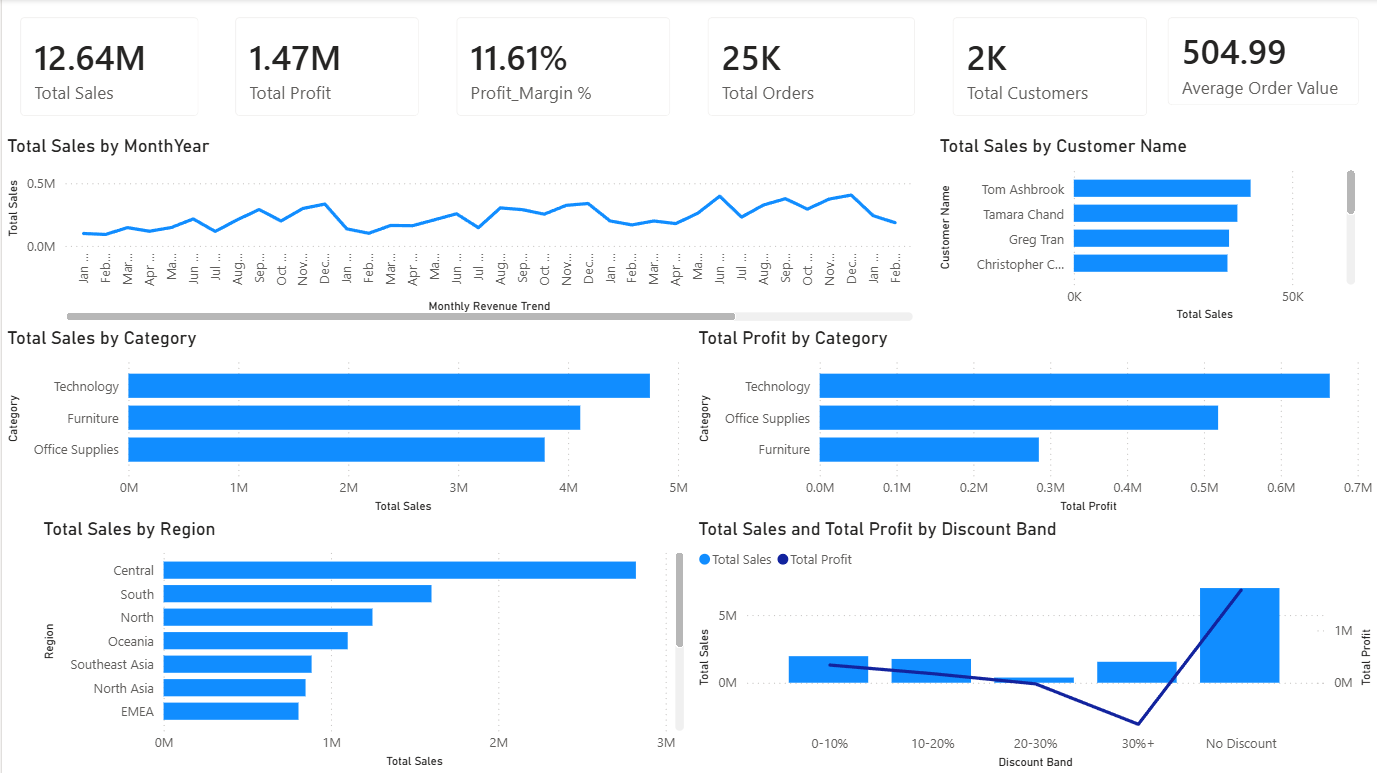

The page's visual inventory and layout, read from the dashboard file:
{"tool":"powerbi","page":{"name":"Page 1","canvas":[1280,720],"ordinal":0},"visuals":[{"type":"cardVisual","fields":{"Data":["Global_Superstore_Cleaned.Total Sales"]},"box":[0,0,200,126.7],"z":0},{"type":"cardVisual","fields":{"Data":["Global_Superstore_Cleaned.Total Profit"]},"box":[200,0,205.8,126.7],"z":1000},{"type":"cardVisual","fields":{"Data":["Global_Superstore_Cleaned.Profit_Margin %"]},"box":[405.8,0,233.7,126.7],"z":2000},{"type":"cardVisual","fields":{"Data":["Global_Superstore_Cleaned.Total Orders"]},"box":[639.5,0,227.9,126.7],"z":3000},{"type":"cardVisual","fields":{"Data":["Global_Superstore_Cleaned.Total Customers"]},"box":[867.4,0,215.1,126.7],"z":4000},{"type":"cardVisual","fields":{"Data":["Global_Superstore_Cleaned.Average Order Value"]},"box":[1067.4,0,212.8,116.3],"z":5000},{"type":"lineChart","fields":{"Y":["Global_Superstore_Cleaned.Total Sales"],"Category":["Global_Superstore_Cleaned.MonthYear"]},"box":[0,126.7,852.3,177.9],"z":6000},{"type":"clusteredBarChart","fields":{"Category":["Global_Superstore_Cleaned.Category"],"Y":["Global_Superstore_Cleaned.Total Sales"]},"box":[0,304.7,643,177.9],"z":7000},{"type":"clusteredBarChart","fields":{"Category":["Global_Superstore_Cleaned.Category"],"Y":["Global_Superstore_Cleaned.Total Profit"]},"box":[643,304.7,637.2,177.9],"z":8000},{"type":"clusteredBarChart","fields":{"Category":["Global_Superstore_Cleaned.Region"],"Y":["Global_Superstore_Cleaned.Total Sales"]},"box":[33.7,482.6,605.8,237.2],"z":9000},{"type":"lineClusteredColumnComboChart","fields":{"Category":["Global_Superstore_Cleaned.Discount Band"],"Y":["Global_Superstore_Cleaned.Total Sales"],"Y2":["Global_Superstore_Cleaned.Total Profit"]},"box":[643,482.6,637.2,238.4],"z":10000},{"type":"clusteredBarChart","fields":{"Category":["Global_Superstore_Cleaned.Customer Name"],"Y":["Global_Superstore_Cleaned.Total Sales"]},"box":[867.4,126.7,396.5,177.9],"z":11000}]}

Visuals, with their boxes in screenshot pixels (x1, y1, x2, y2), scaled from the page's 1280x720 canvas onto the 1377x773 screenshot:
cardVisual - Global_Superstore_Cleaned.Total Sales: bbox=(0, 0, 215, 136)
cardVisual - Global_Superstore_Cleaned.Total Profit: bbox=(215, 0, 437, 136)
cardVisual - Global_Superstore_Cleaned.Profit_Margin %: bbox=(437, 0, 688, 136)
cardVisual - Global_Superstore_Cleaned.Total Orders: bbox=(688, 0, 933, 136)
cardVisual - Global_Superstore_Cleaned.Total Customers: bbox=(933, 0, 1165, 136)
cardVisual - Global_Superstore_Cleaned.Average Order Value: bbox=(1148, 0, 1376, 125)
lineChart - Global_Superstore_Cleaned.Total Sales x Global_Superstore_Cleaned.MonthYear: bbox=(0, 136, 917, 327)
clusteredBarChart - Global_Superstore_Cleaned.Category x Global_Superstore_Cleaned.Total Sales: bbox=(0, 327, 692, 518)
clusteredBarChart - Global_Superstore_Cleaned.Category x Global_Superstore_Cleaned.Total Profit: bbox=(692, 327, 1376, 518)
clusteredBarChart - Global_Superstore_Cleaned.Region x Global_Superstore_Cleaned.Total Sales: bbox=(36, 518, 688, 772)
lineClusteredColumnComboChart - Global_Superstore_Cleaned.Discount Band x Global_Superstore_Cleaned.Total Sales: bbox=(692, 518, 1376, 772)
clusteredBarChart - Global_Superstore_Cleaned.Customer Name x Global_Superstore_Cleaned.Total Sales: bbox=(933, 136, 1360, 327)
